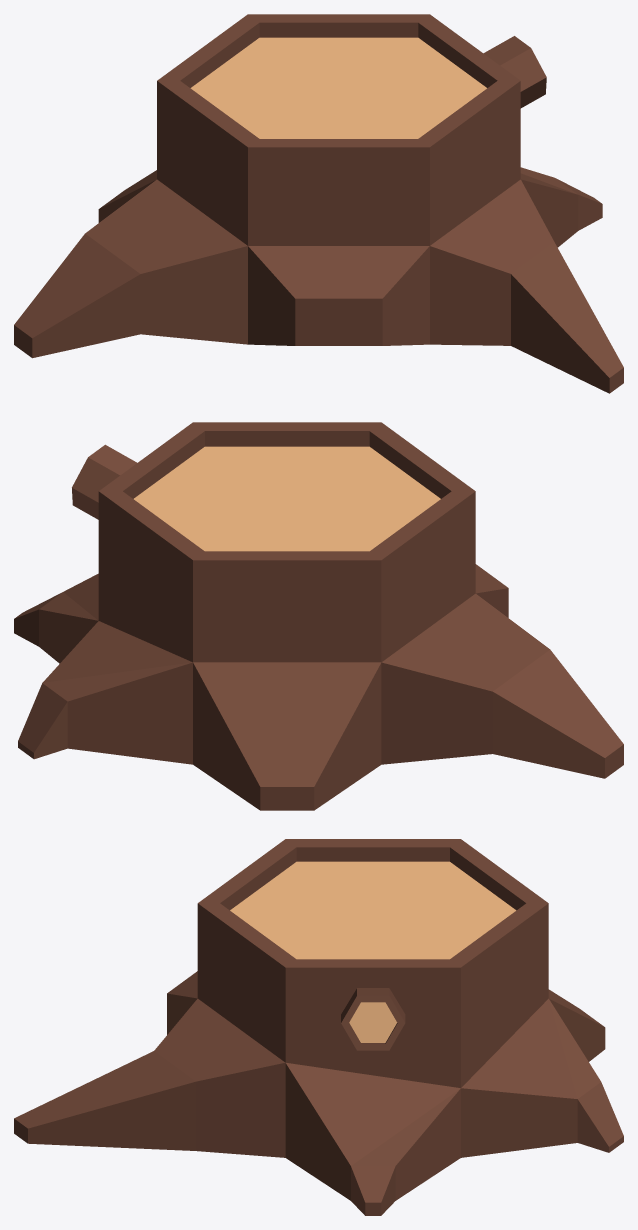
The model's file is treestump.gltf.
3 views of the same model, one above another, from view 1: azimuth 30°, elevation 25°; view 2: azimuth 150°, elevation 25°; view 3: azimuth 270°, elevation 25° (orthographic). The views are drawn at different scales.
Parts seen in each view (by area): view 1: Cylinder; view 2: Cylinder; view 3: Cylinder.
Boxes of the visible parts, x1,y1,x2,y2 form: Cylinder: (14,14,623,393); Cylinder: (14,422,623,810); Cylinder: (14,839,623,1215).
Size of the model in its own units: 3.65 by 1.2 by 3.48.
